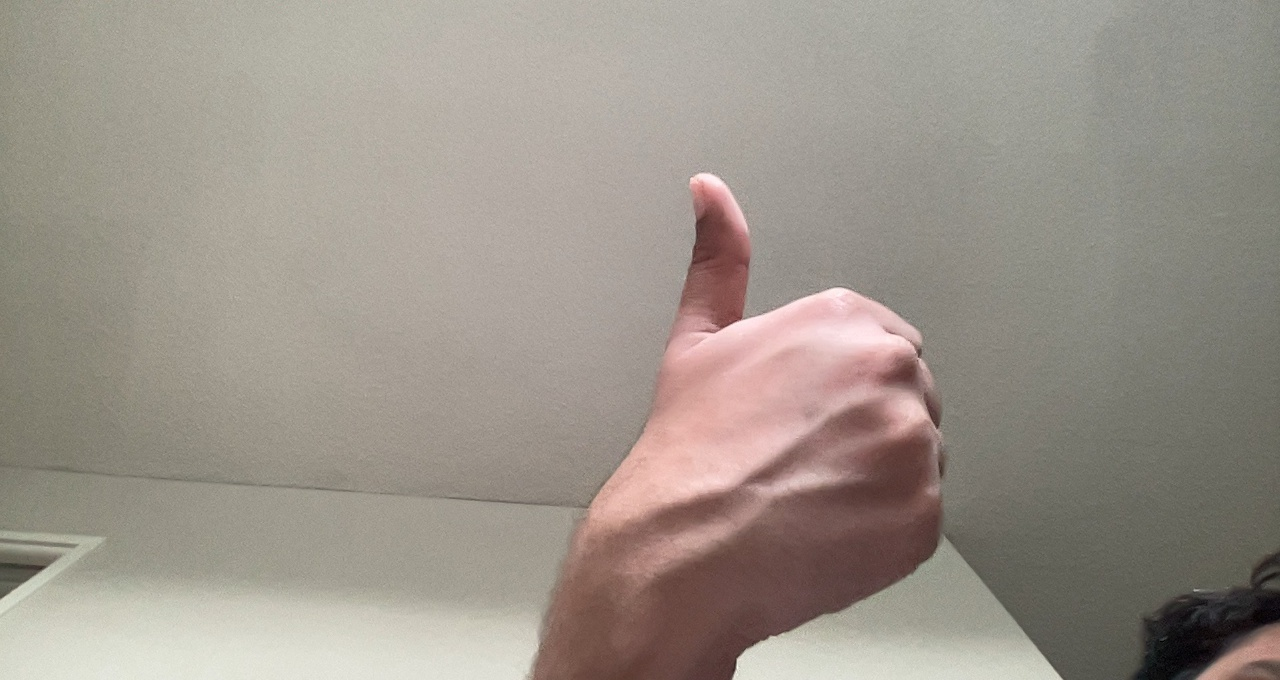thumbsup: (621, 157, 954, 669)
